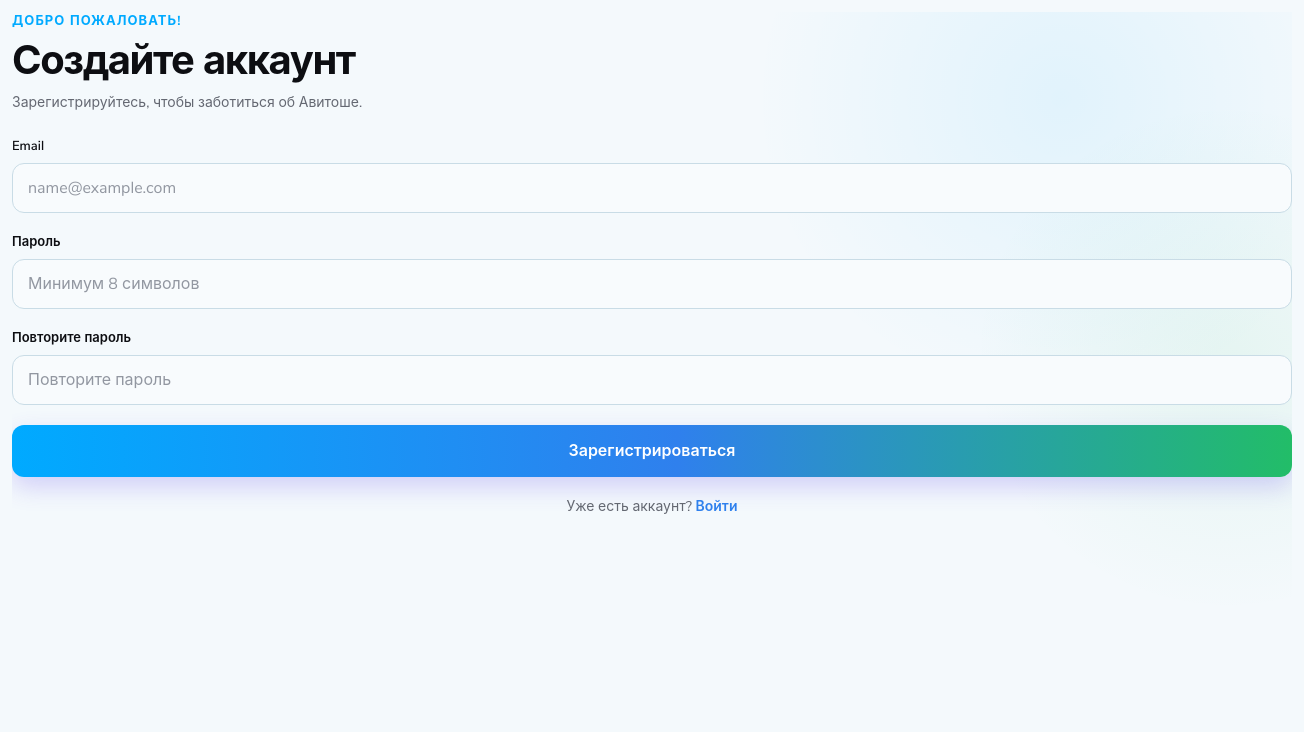
Test: RegisterForm › shows a general server error
This screenshot has width=1304, height=732.
Type "user@example.com" into the field labelled "Email" at coordinates (652, 188), box [12,163,1292,213]
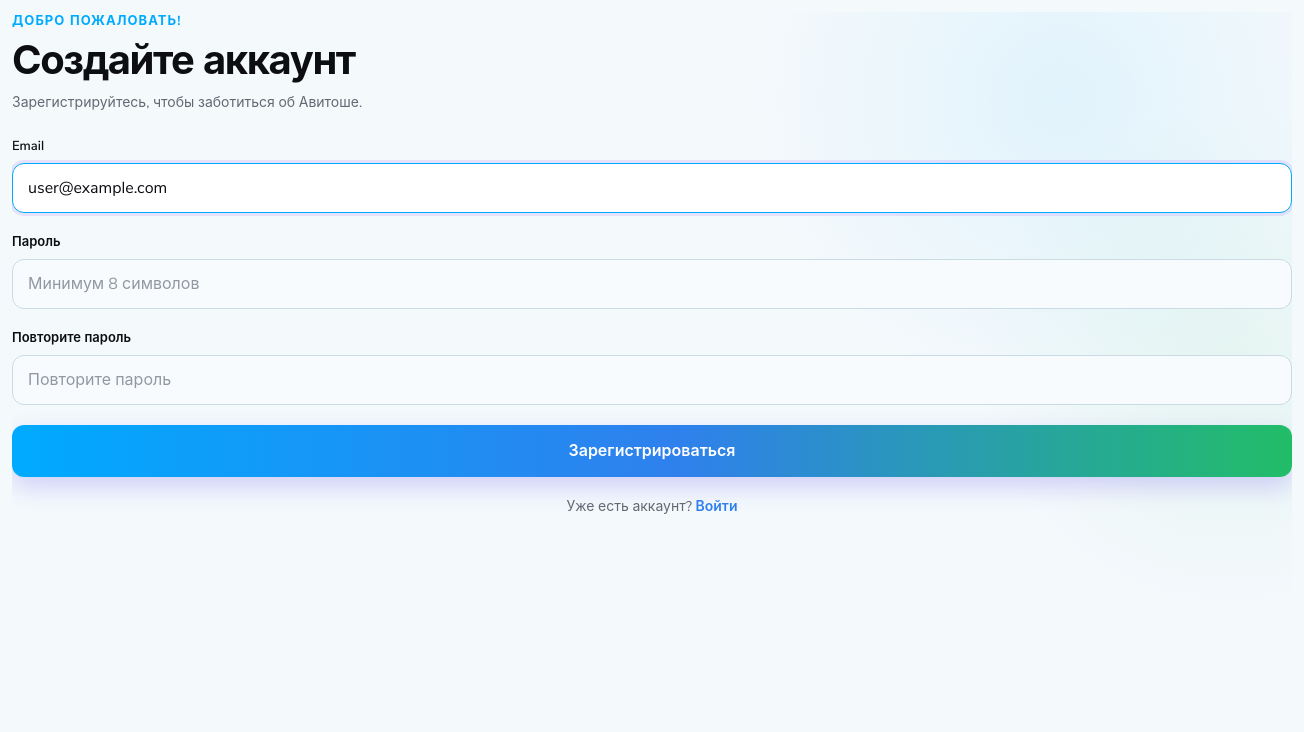
Type "password123" into the password field labelled "Пароль" at coordinates (652, 284), box [12,259,1292,309]
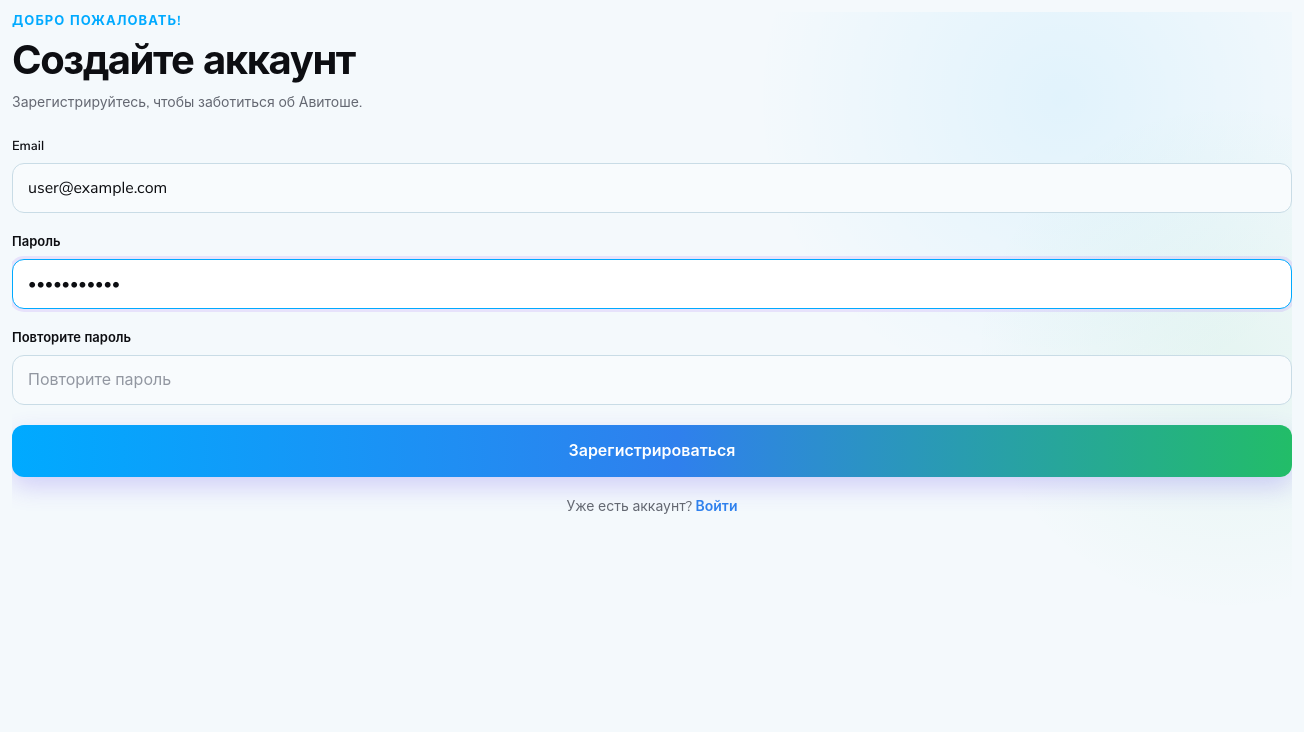
Type "password123" into the password field labelled "Повторите пароль" at coordinates (652, 380), box [12,355,1292,405]
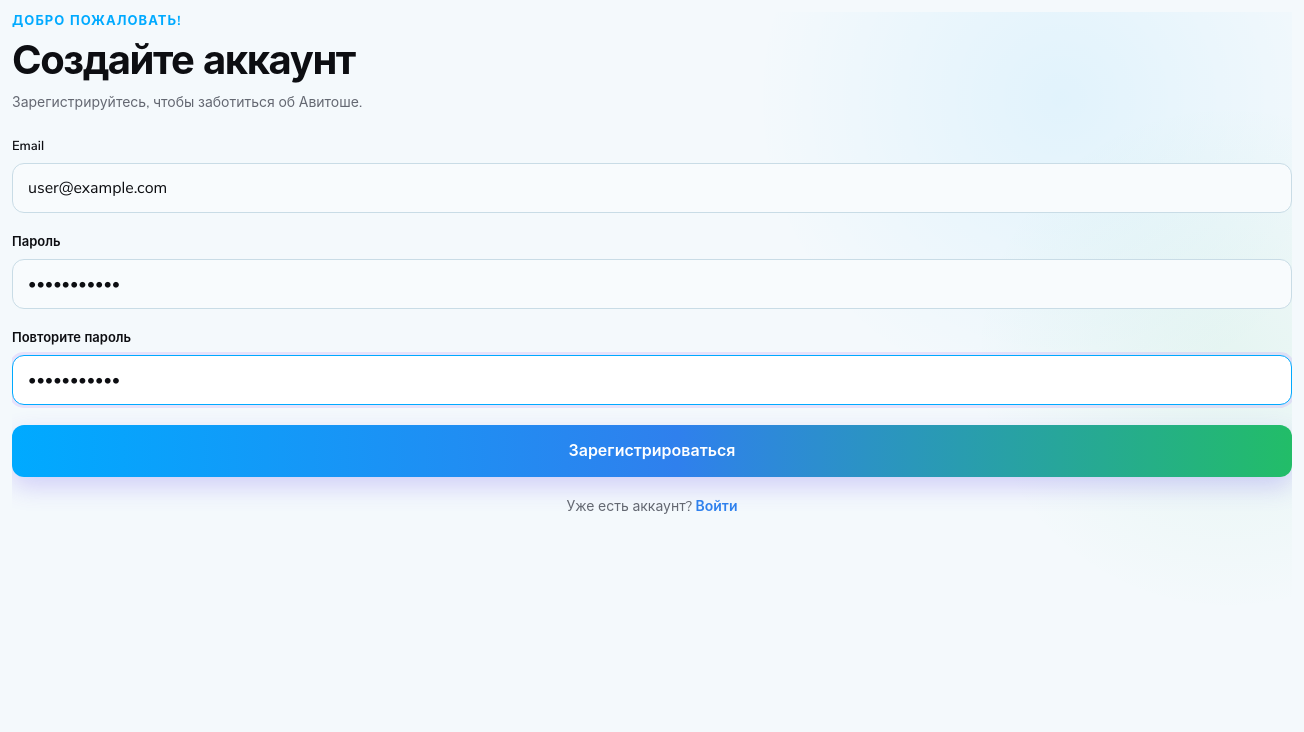
Click the button "Зарегистрироваться" at coordinates (652, 451), box [12,425,1292,477]
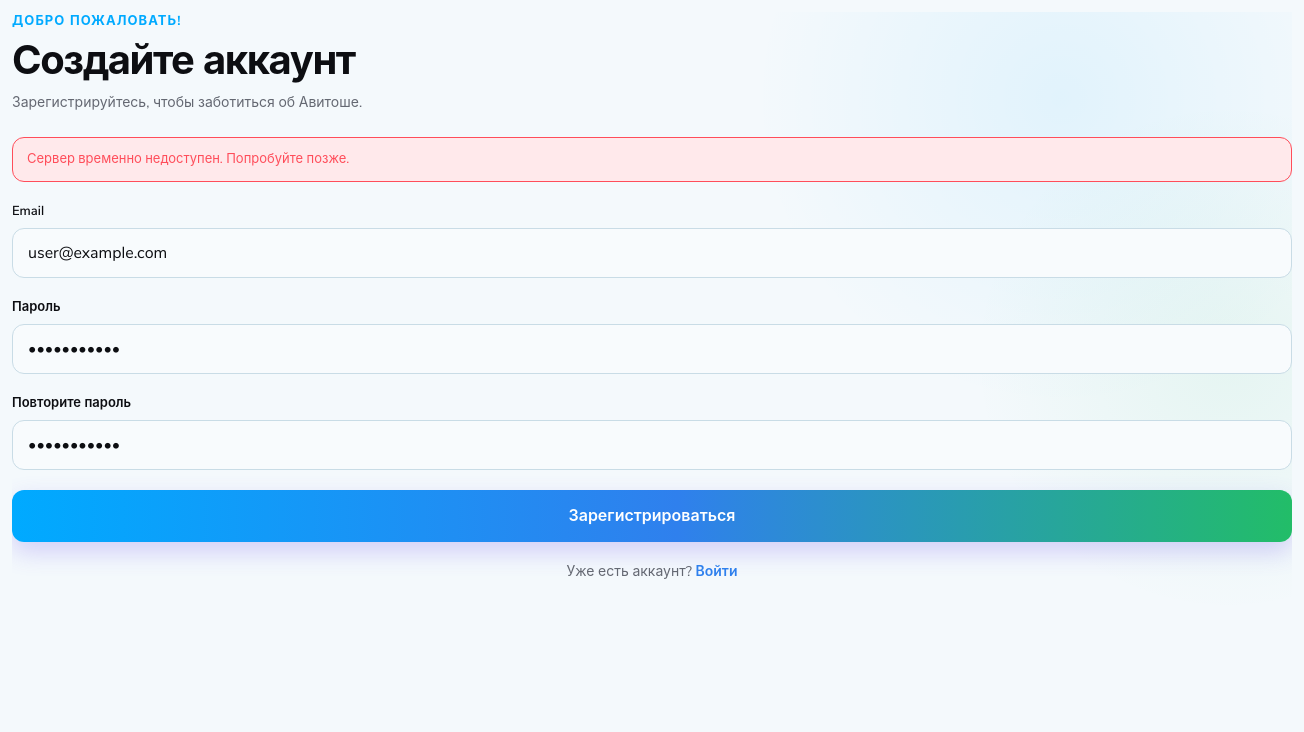
Result: the text "Сервер временно недоступен. Попробуйте позже." is shown at [12,137,1292,182]
